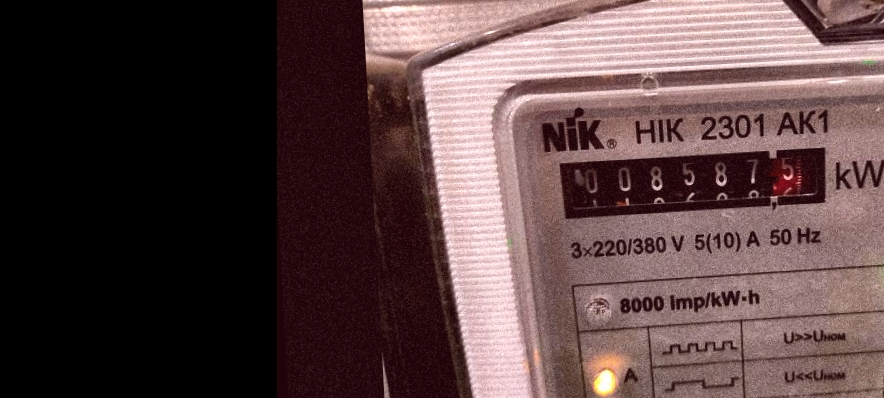0: (582, 164, 600, 194), (616, 163, 634, 192)
5: (780, 153, 798, 183), (680, 158, 698, 187)
7: (744, 154, 762, 185)
8: (712, 157, 730, 188), (648, 162, 665, 191)
screen: (541, 130, 847, 230)
